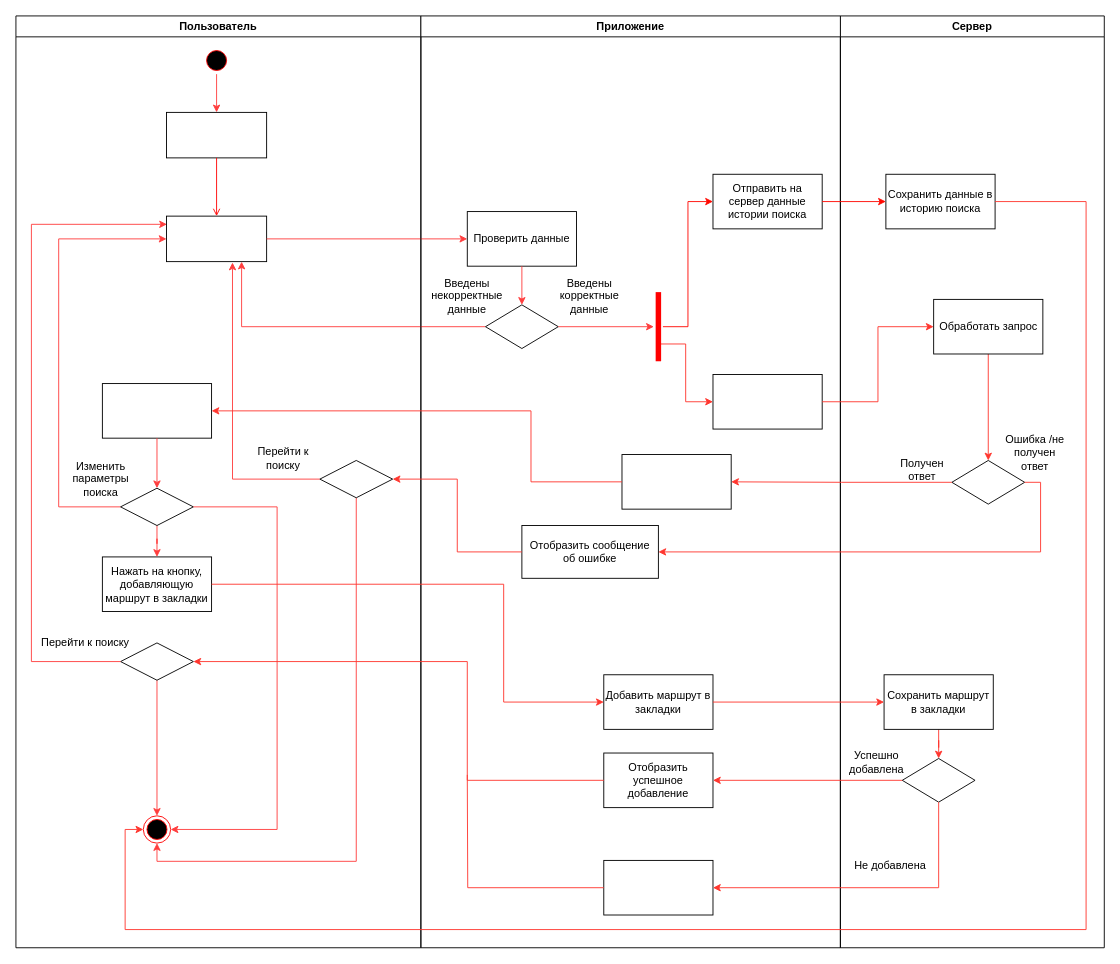
Image size: 1120x964. Some labels were removed from this diagram. Here are the shapes that lost their labels. From the top down, the centre of each, then its label:
At (216,134): "Перейти к поиску билетов".
At (216,238): "Ввести данные в форму поиска".
At (156,410): "Просмотреть информацию о билетах".
At (767,401): "Отправить запрос".
At (676,481): "Отобразить информацию о билетах".
At (658,887): "Сообщить о неудаче".
